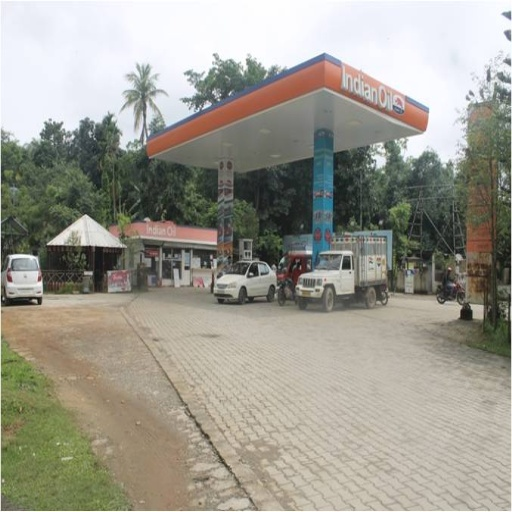roof: (148, 58, 429, 174)
